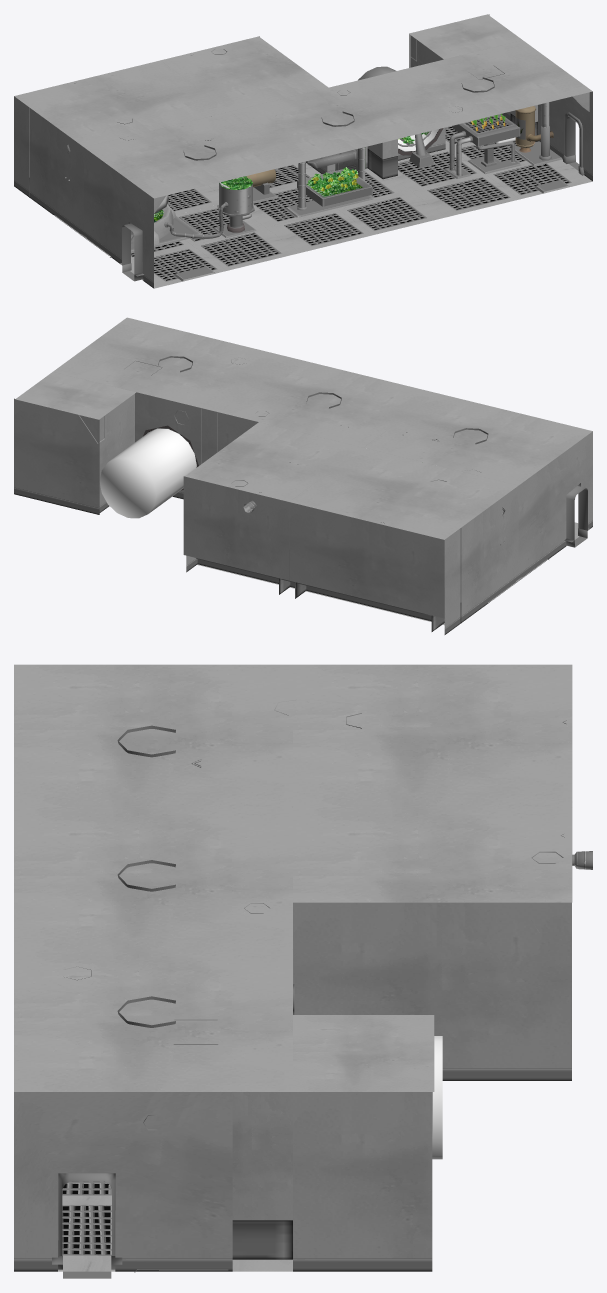
File: MSH_Hydroponic_farm_room_L3_R3_optimized.fbx
3 views of the same model, one above another, from view 1: azimuth 30°, elevation 25°; view 2: azimuth 150°, elevation 25°; view 3: azimuth 270°, elevation 25° (orthographic). The views are drawn at different scales.
Visible parts, largest first — view 1: lightmap0, lightmap1, lightmap-1; view 2: lightmap0, lightmap-1, lightmap1; view 3: lightmap0, lightmap1, lightmap-1.
Part boxes in pixels (x1,y1,x2,y2): lightmap0: [14, 14, 592, 288]; lightmap1: [29, 40, 589, 281]; lightmap-1: [122, 66, 579, 281]; lightmap0: [14, 317, 592, 634]; lightmap-1: [99, 428, 587, 547]; lightmap1: [79, 356, 548, 631]; lightmap0: [14, 664, 572, 1271]; lightmap1: [64, 699, 592, 1272]; lightmap-1: [62, 1036, 442, 1278].
Size of the model in its own units: 30.91 by 6.02 by 17.13.
